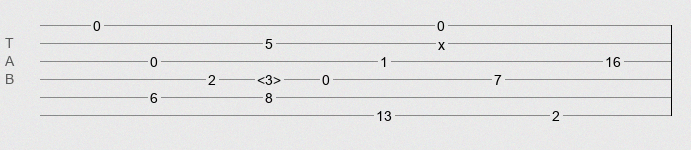0: (93, 18, 101, 28), (150, 54, 158, 64), (322, 72, 330, 82), (437, 18, 445, 28)
1: (380, 54, 388, 64)
13: (376, 108, 392, 118)
16: (605, 54, 621, 64)
2: (208, 72, 216, 82), (552, 108, 560, 118)
5: (265, 36, 273, 46)
6: (150, 90, 158, 100)
7: (494, 72, 502, 82)
8: (265, 90, 273, 100)
harmonic: (257, 72, 281, 82)
x: (438, 37, 445, 45)
